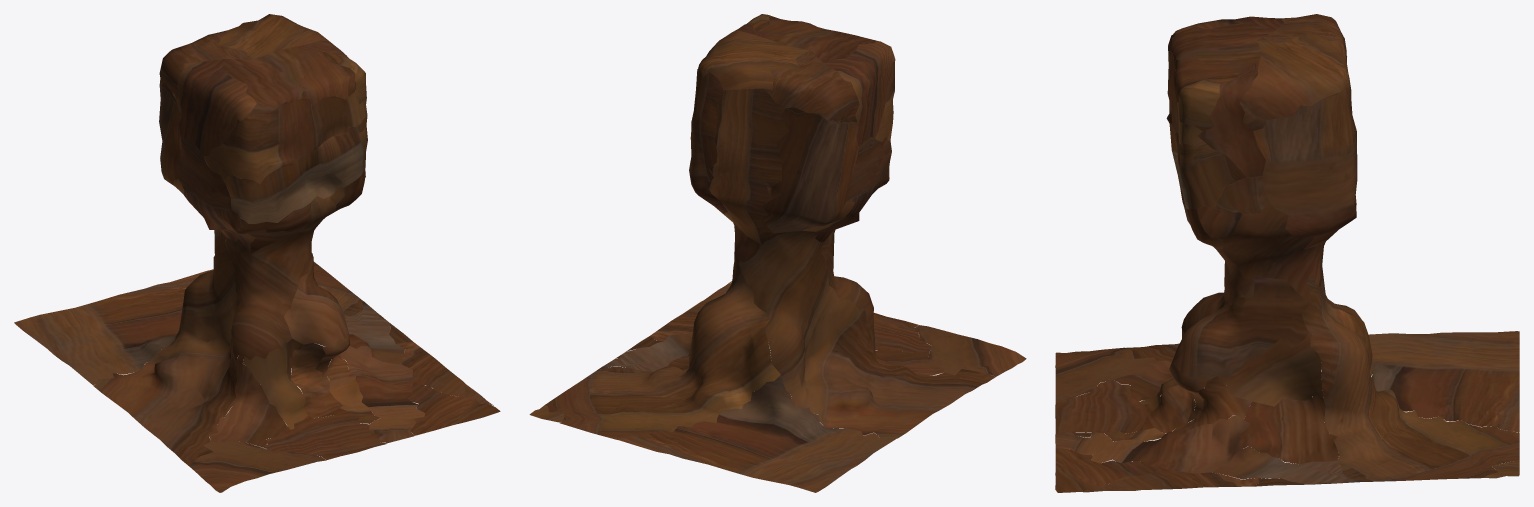
Rendered from Minecraft.glb.
3 views of the same model, side by side, from view 1: azimuth 30°, elevation 25°; view 2: azimuth 150°, elevation 25°; view 3: azimuth 270°, elevation 25° (orthographic). The views are drawn at different scales.
Visible parts, largest first — view 1: Mesh_0; view 2: Mesh_0; view 3: Mesh_0.
Boxes of the visible parts, x1,y1,x2,y2 form: Mesh_0: (14,14,500,492); Mesh_0: (529,14,1026,492); Mesh_0: (1055,14,1519,492).
Size of the model in its own units: 1.04 by 1.21 by 1.33.
Materials: 1 (1 with a texture image).
